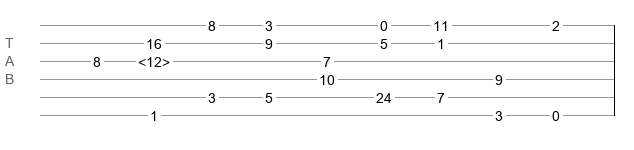0: (380, 18, 388, 28), (552, 108, 560, 118)
1: (150, 108, 158, 118), (437, 36, 445, 46)
10: (319, 72, 335, 82)
11: (433, 18, 449, 28)
16: (146, 36, 162, 46)
2: (552, 18, 560, 28)
24: (376, 90, 392, 100)
3: (208, 90, 216, 100), (265, 18, 273, 28), (495, 108, 503, 118)
5: (265, 90, 273, 100), (380, 36, 388, 46)
7: (323, 54, 331, 64), (437, 90, 445, 100)
8: (93, 54, 101, 64), (208, 18, 216, 28)
9: (265, 36, 273, 46), (495, 72, 503, 82)
harmonic: (138, 54, 170, 64)
